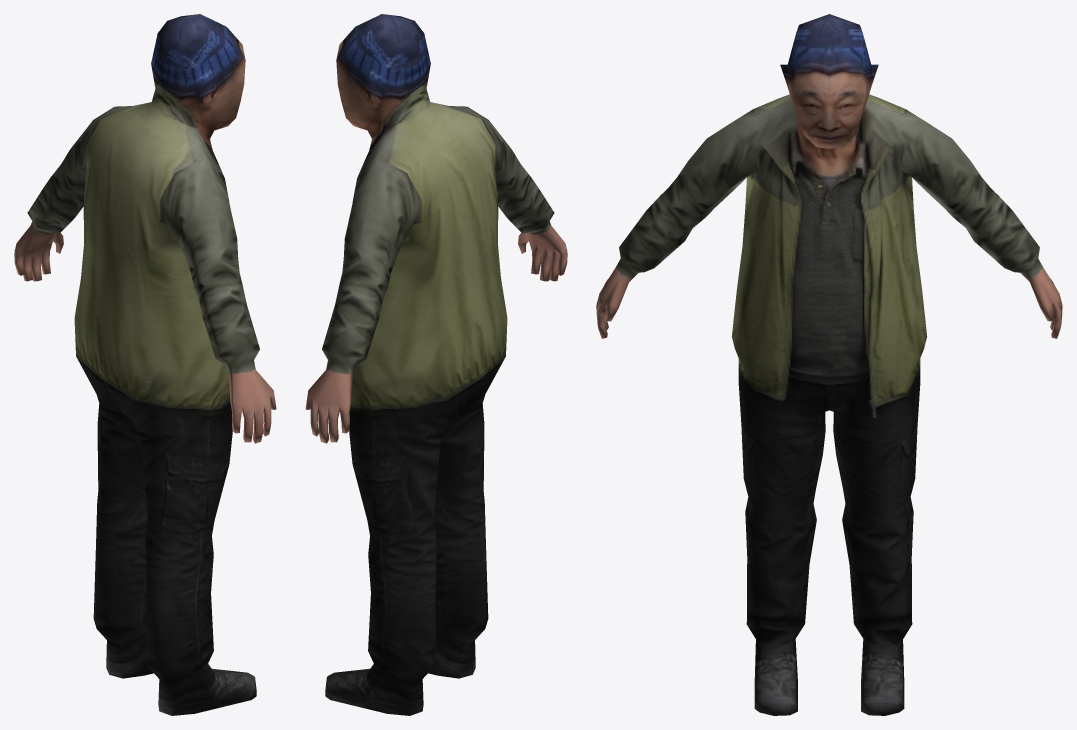
The model's file is Character_Male_34.fbx.
3 renders of one model, left to right at view 1: azimuth 30°, elevation 25°; view 2: azimuth 150°, elevation 25°; view 3: azimuth 270°, elevation 25°, orthographic. The views are drawn at different scales.
Parts seen in each view (by area): view 1: Character_Male_34; view 2: Character_Male_34; view 3: Character_Male_34.
Part boxes in pixels (x1,y1,x2,y2): Character_Male_34: (14, 14, 276, 715); Character_Male_34: (305, 14, 567, 715); Character_Male_34: (596, 14, 1062, 715).
Bounding box in the file's own units: 0.3797 × 1.69 × 1.05.
